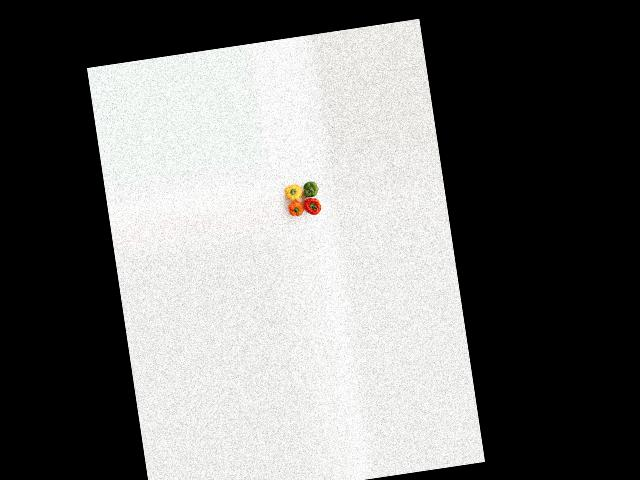bell_pepper: (299, 175, 320, 202)
